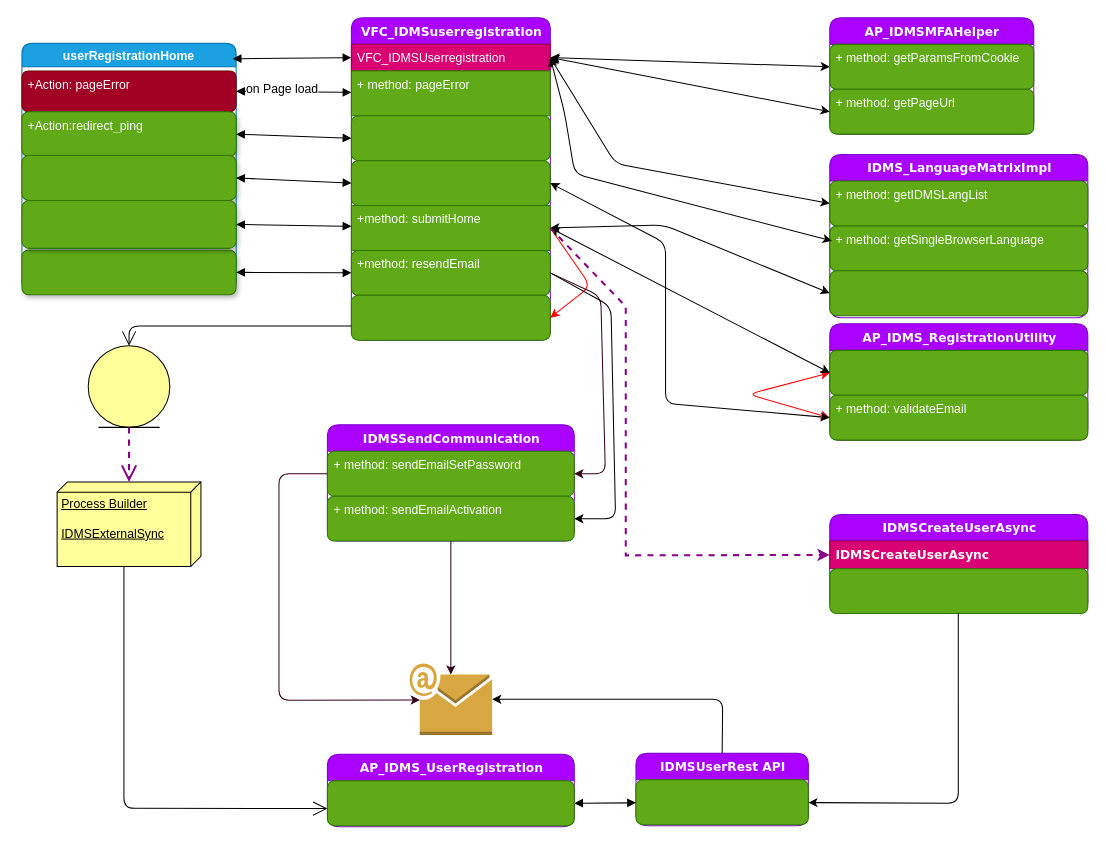
Image size: 1106x847. Some labels were removed from this diagram. Each missing label, with the centre of its shape:
+ method: createUserInvokable: the point at 450,803
+ method: doPost: the point at 721,802
+ method: execute: the point at 958,591
+ method: getLocaleCode: the point at 958,293
+ method: validateFormData: the point at 958,372
+Action:resendEmail: the point at 129,273
+Action:submitHome: the point at 129,225
+Action:validationEmail: the point at 129,179
+method: publishEvent: the point at 450,317
+method: redirect_ping: the point at 450,138
+method: validationEmail: the point at 450,183
Publish Event: the point at 128,386
